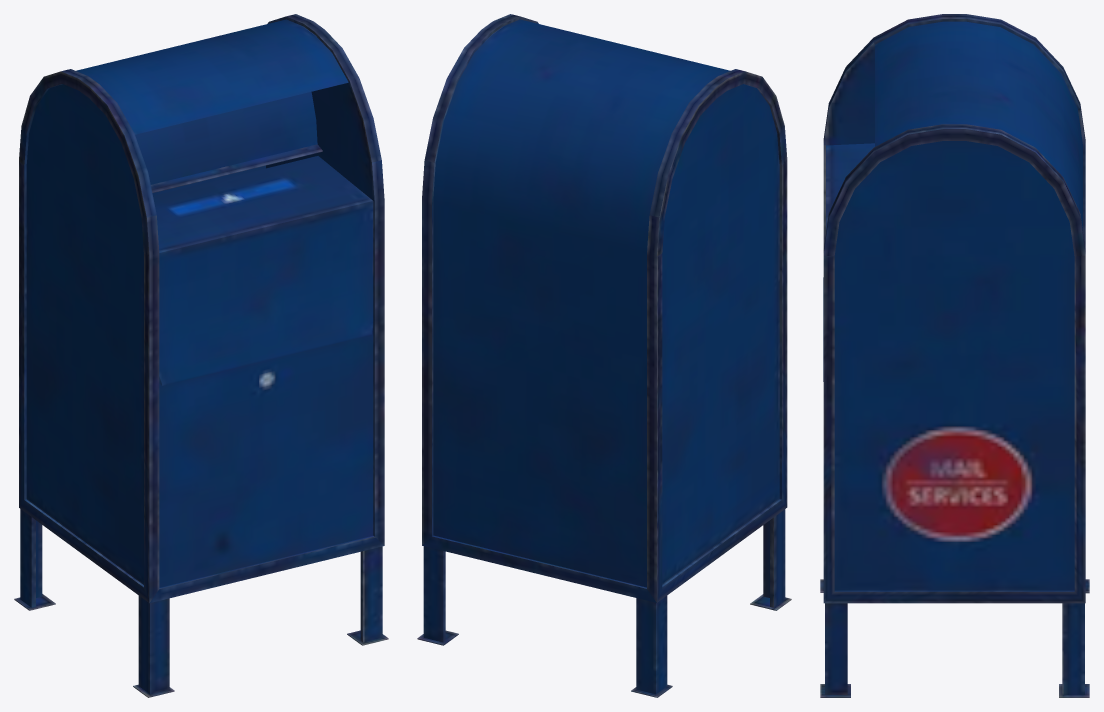
The model's file is CityMailBox.glb.
3 renders of one model, left to right at view 1: azimuth 30°, elevation 25°; view 2: azimuth 150°, elevation 25°; view 3: azimuth 270°, elevation 25°, orthographic.
Visible parts, largest first — view 1: MailBox; view 2: MailBox; view 3: MailBox.
Part boxes in pixels (box(x1,y1,x2,y2)): MailBox: box(14, 14, 388, 697); MailBox: box(417, 14, 791, 697); MailBox: box(820, 14, 1089, 697).
Bounding box in the file's own units: 0.4979 × 1.12 × 0.4812.
1 material, 1 textured.
